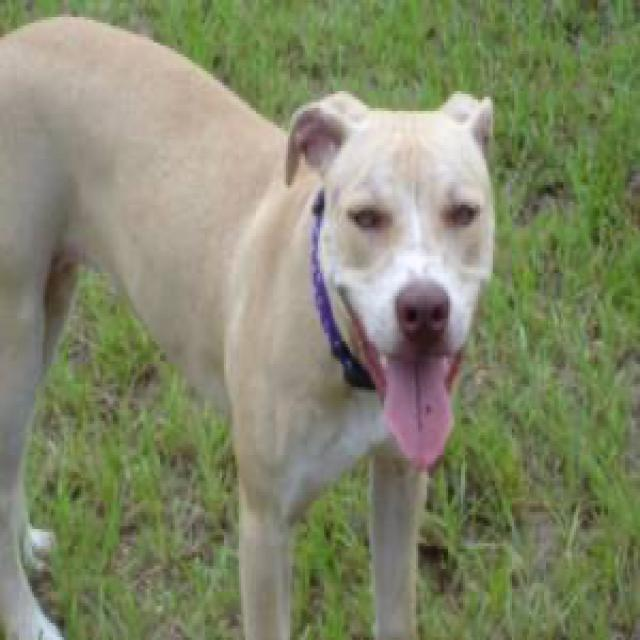dog: (284, 88, 493, 458)
